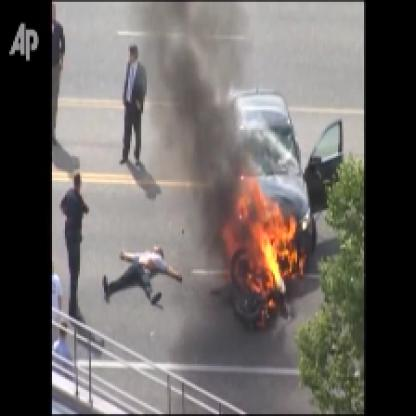Fire: (208, 163, 305, 301)
Smoke: (139, 2, 251, 239)
